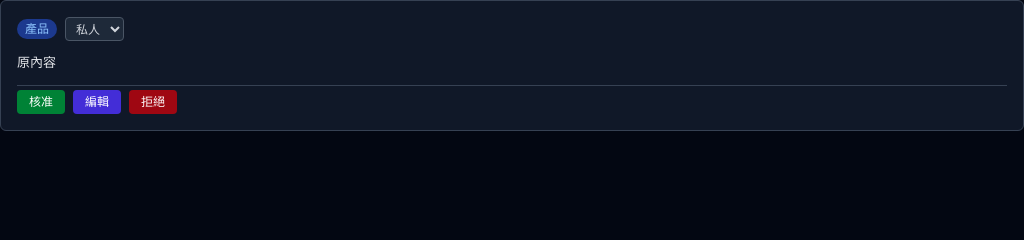
Test: CandidateFactRow — edit mode › cancel restores original content and goes back to view
Step 1. Click the button with test id "candidate-fact-edit-btn" → (97, 102), box [73, 90, 121, 114]
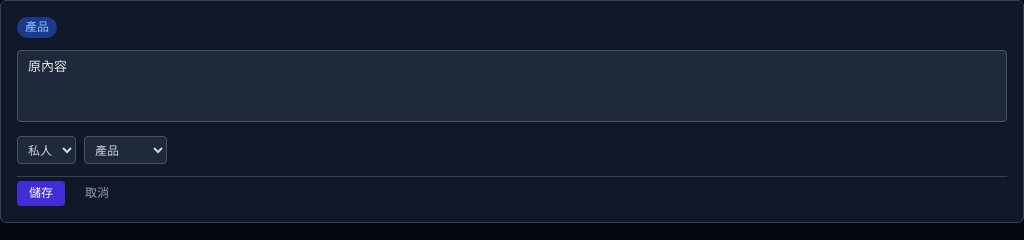
Step 2. Replace the text in the text box with test id "candidate-fact-content" with "改過了" → (512, 86), box [17, 50, 1007, 122]
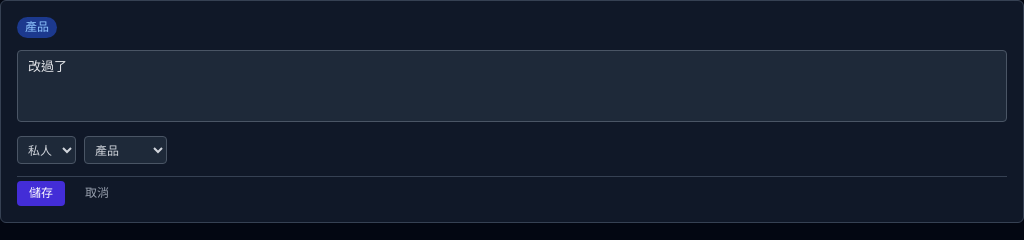
Step 3. Click the button with test id "candidate-fact-cancel-btn" → (97, 194), box [73, 181, 121, 206]
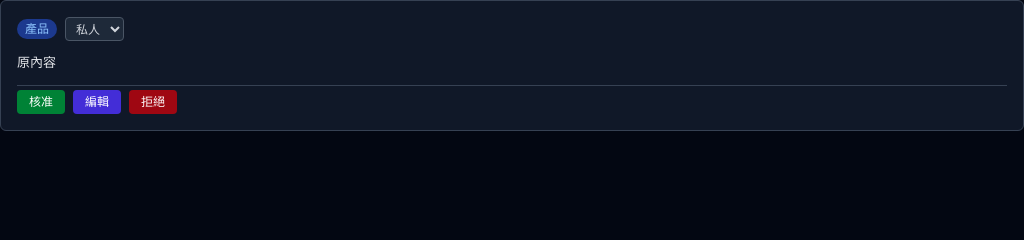
expect the text with test id "candidate-fact-content" reads "原內容": met, box [17, 54, 56, 70]
